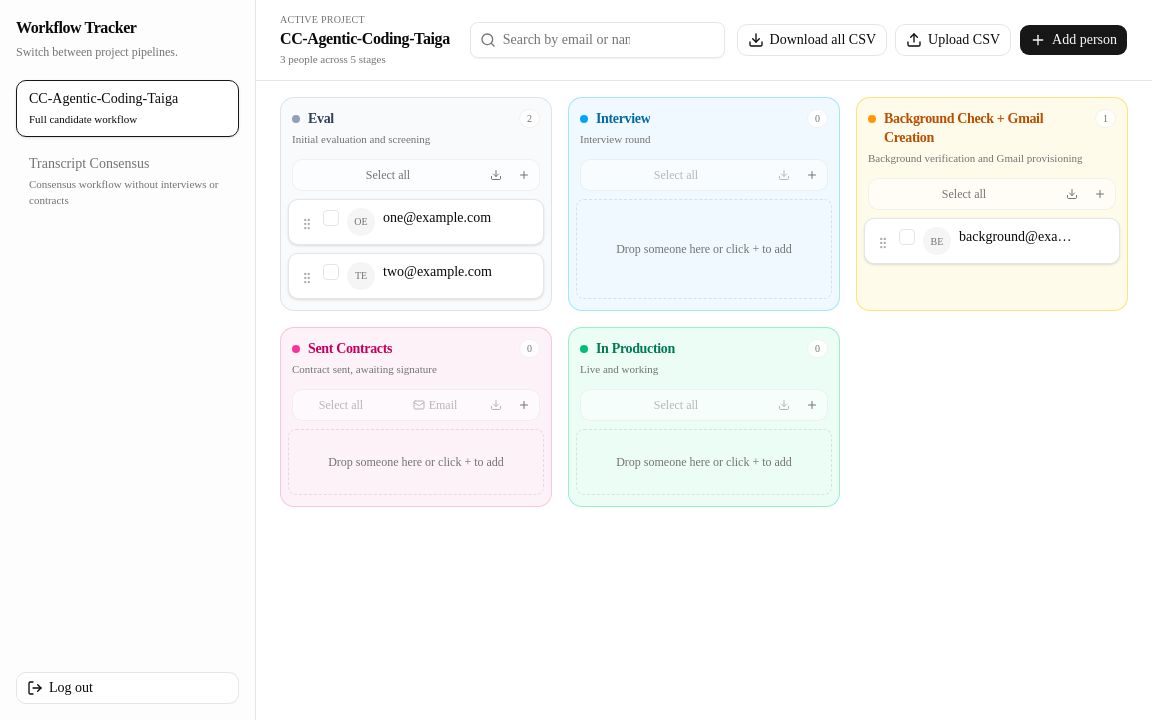
Test: Board › selects and unselects all visible people in a queue
This screenshot has width=1152, height=720.
What coordinates should you click on to do the following:
click the button with aria-label "Select All in Eval"
I would click on:
 (388, 175)
Its box is [296,163,480,187].
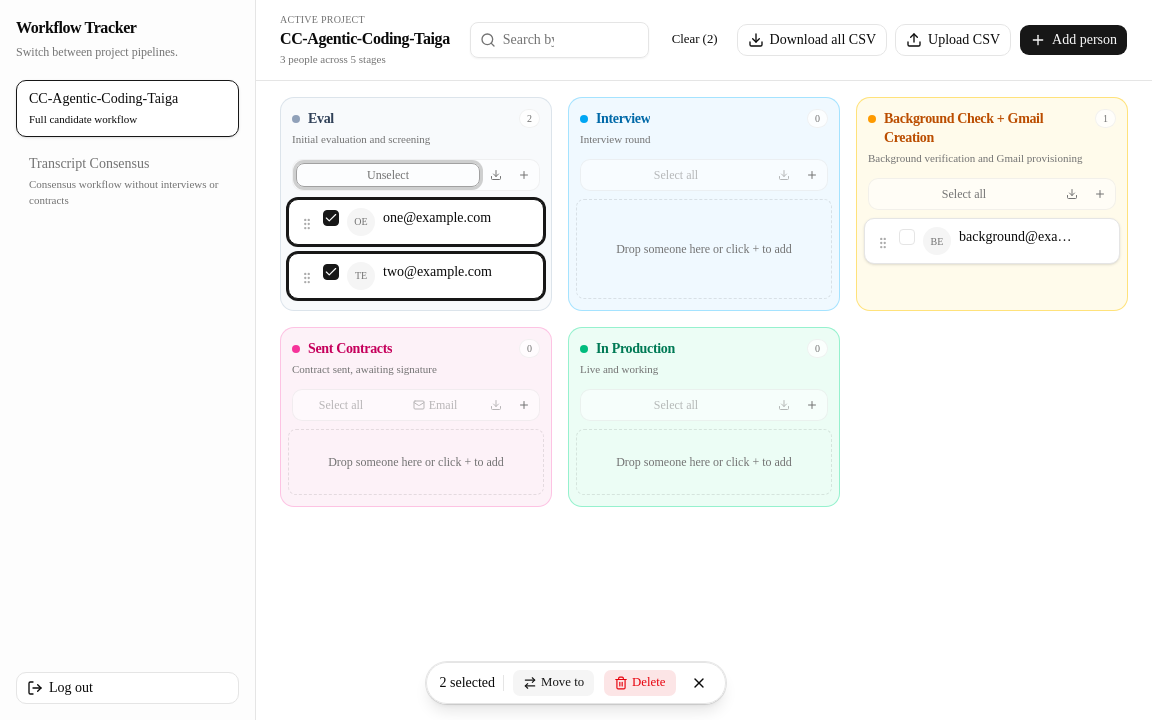
Check: the text "2 selected" is shown, box [440,673,495,693]
What coordinates should you click on to do the following:
click the button with aria-label "Unselect All in Eval"
I would click on:
 (388, 175)
Its box is [296,163,480,187].
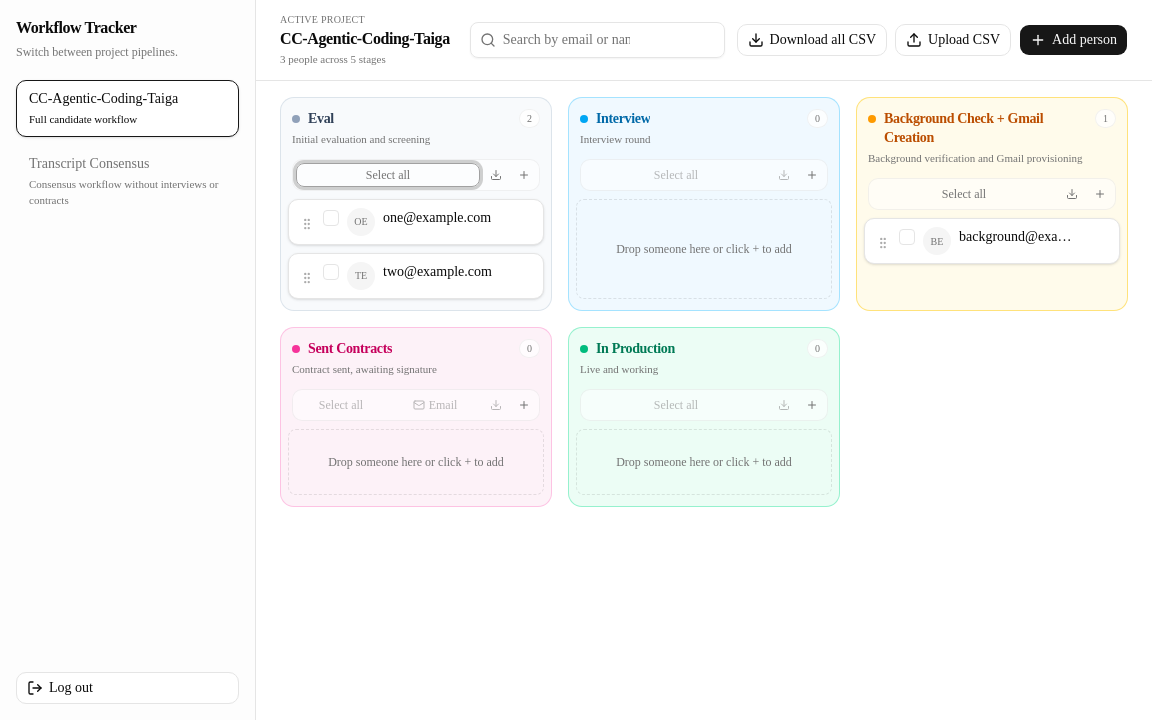
Check: the text "2 selected" is gone
